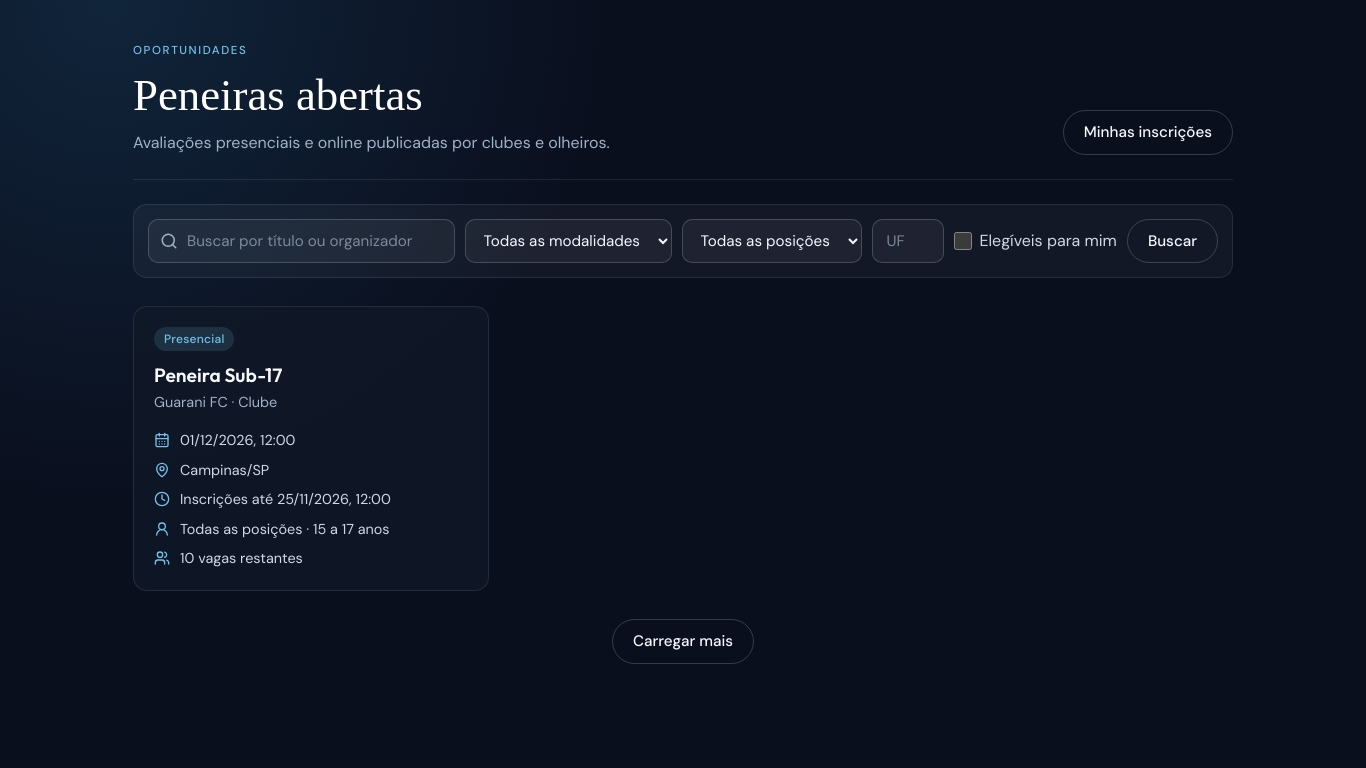
Test: Opportunities › carrega a próxima página pelo cursor
Click the button "Carregar mais": [683, 641] box [612,619,754,664]
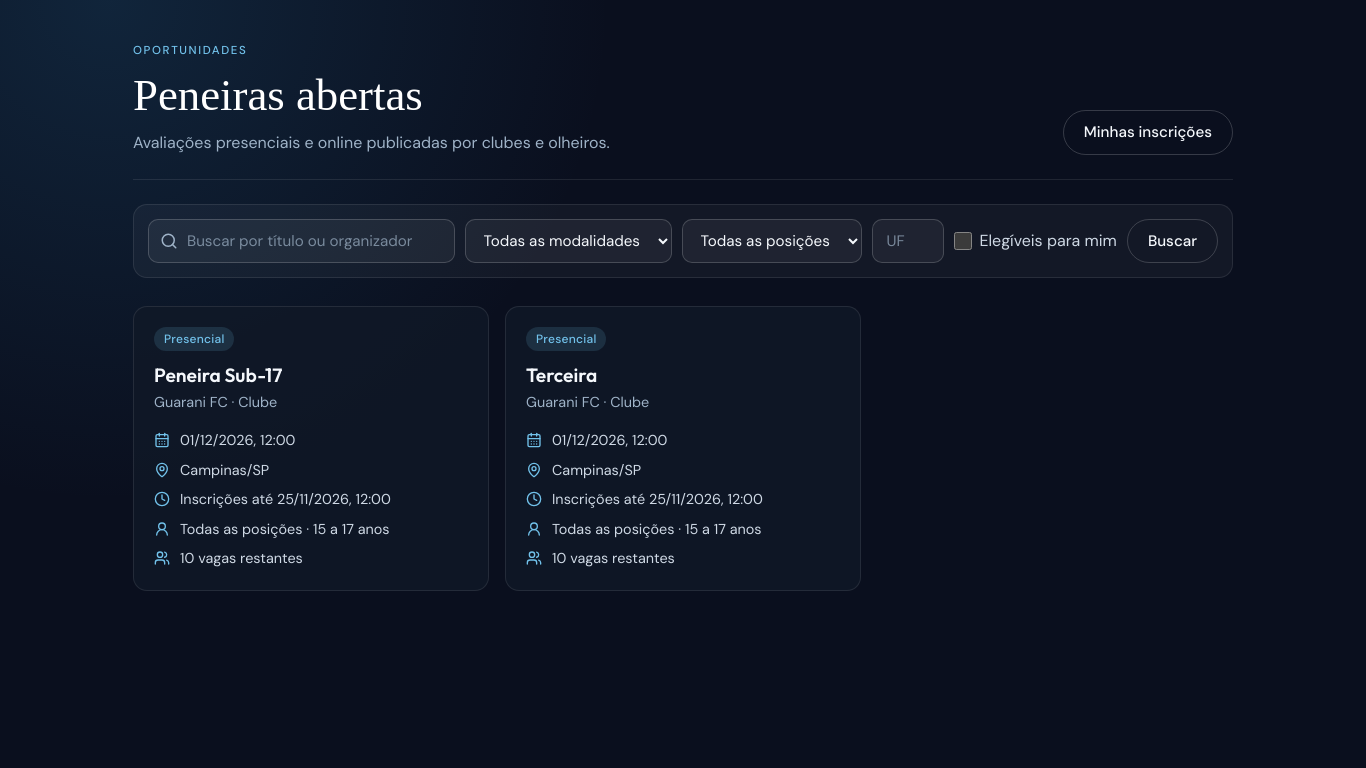
Check: the heading "Terceira" is shown, box [526,363,597,387]
